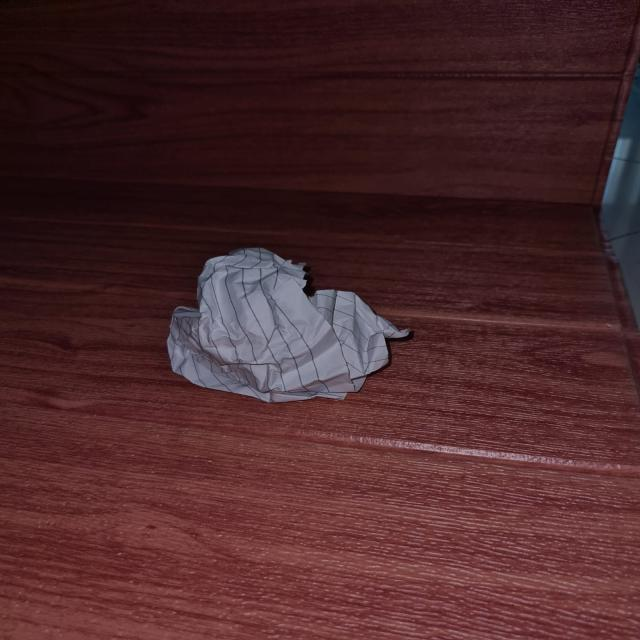Paper: (171, 258, 408, 397)
